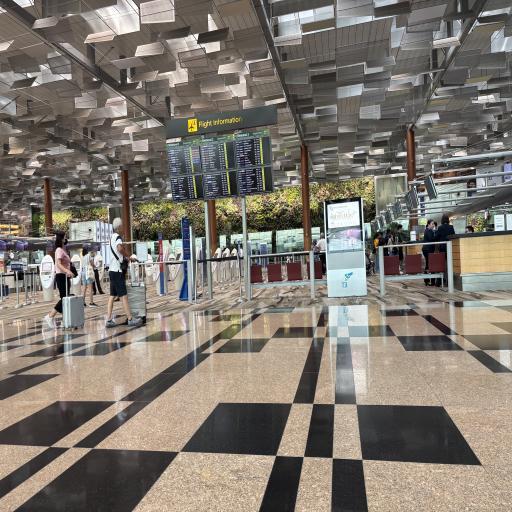person_with_luggage_right: (100, 208, 150, 330), (43, 222, 84, 335)
